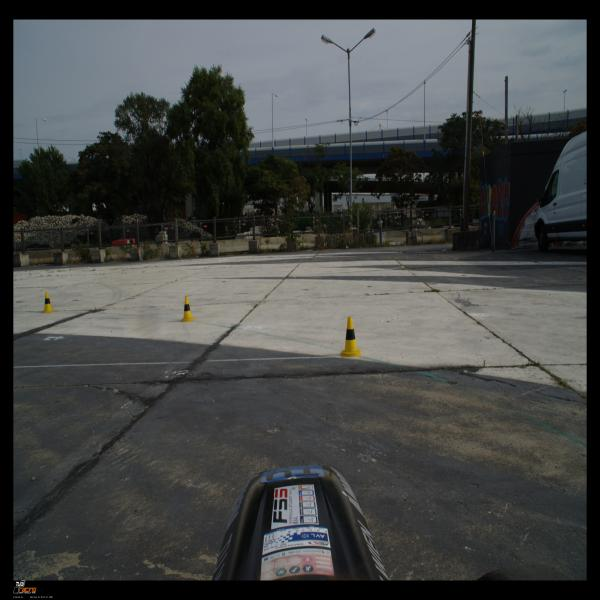yellow_cone: (340, 317, 361, 357), (180, 296, 196, 322), (41, 292, 56, 313)
